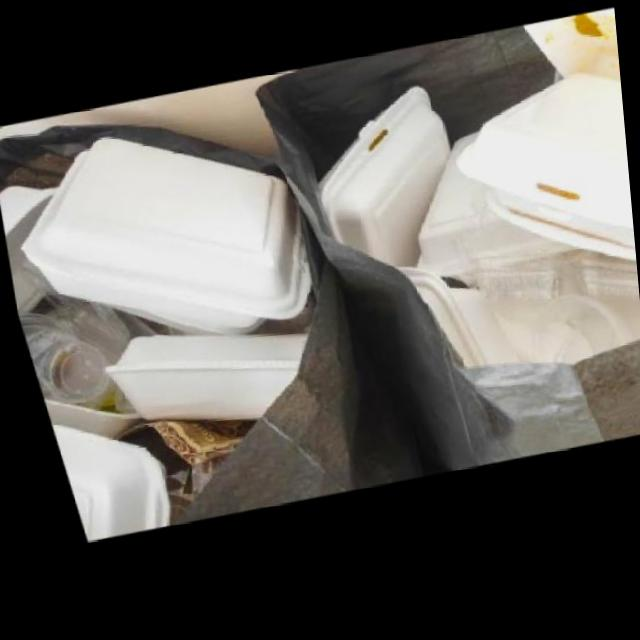hop_nhua: (13, 263, 122, 361), (12, 317, 102, 408), (465, 254, 560, 306), (576, 252, 640, 306)
xop: (14, 141, 308, 339), (451, 74, 635, 251), (312, 87, 448, 270), (97, 335, 302, 426), (479, 188, 636, 262), (390, 269, 481, 370), (520, 7, 620, 81), (0, 190, 54, 318)
